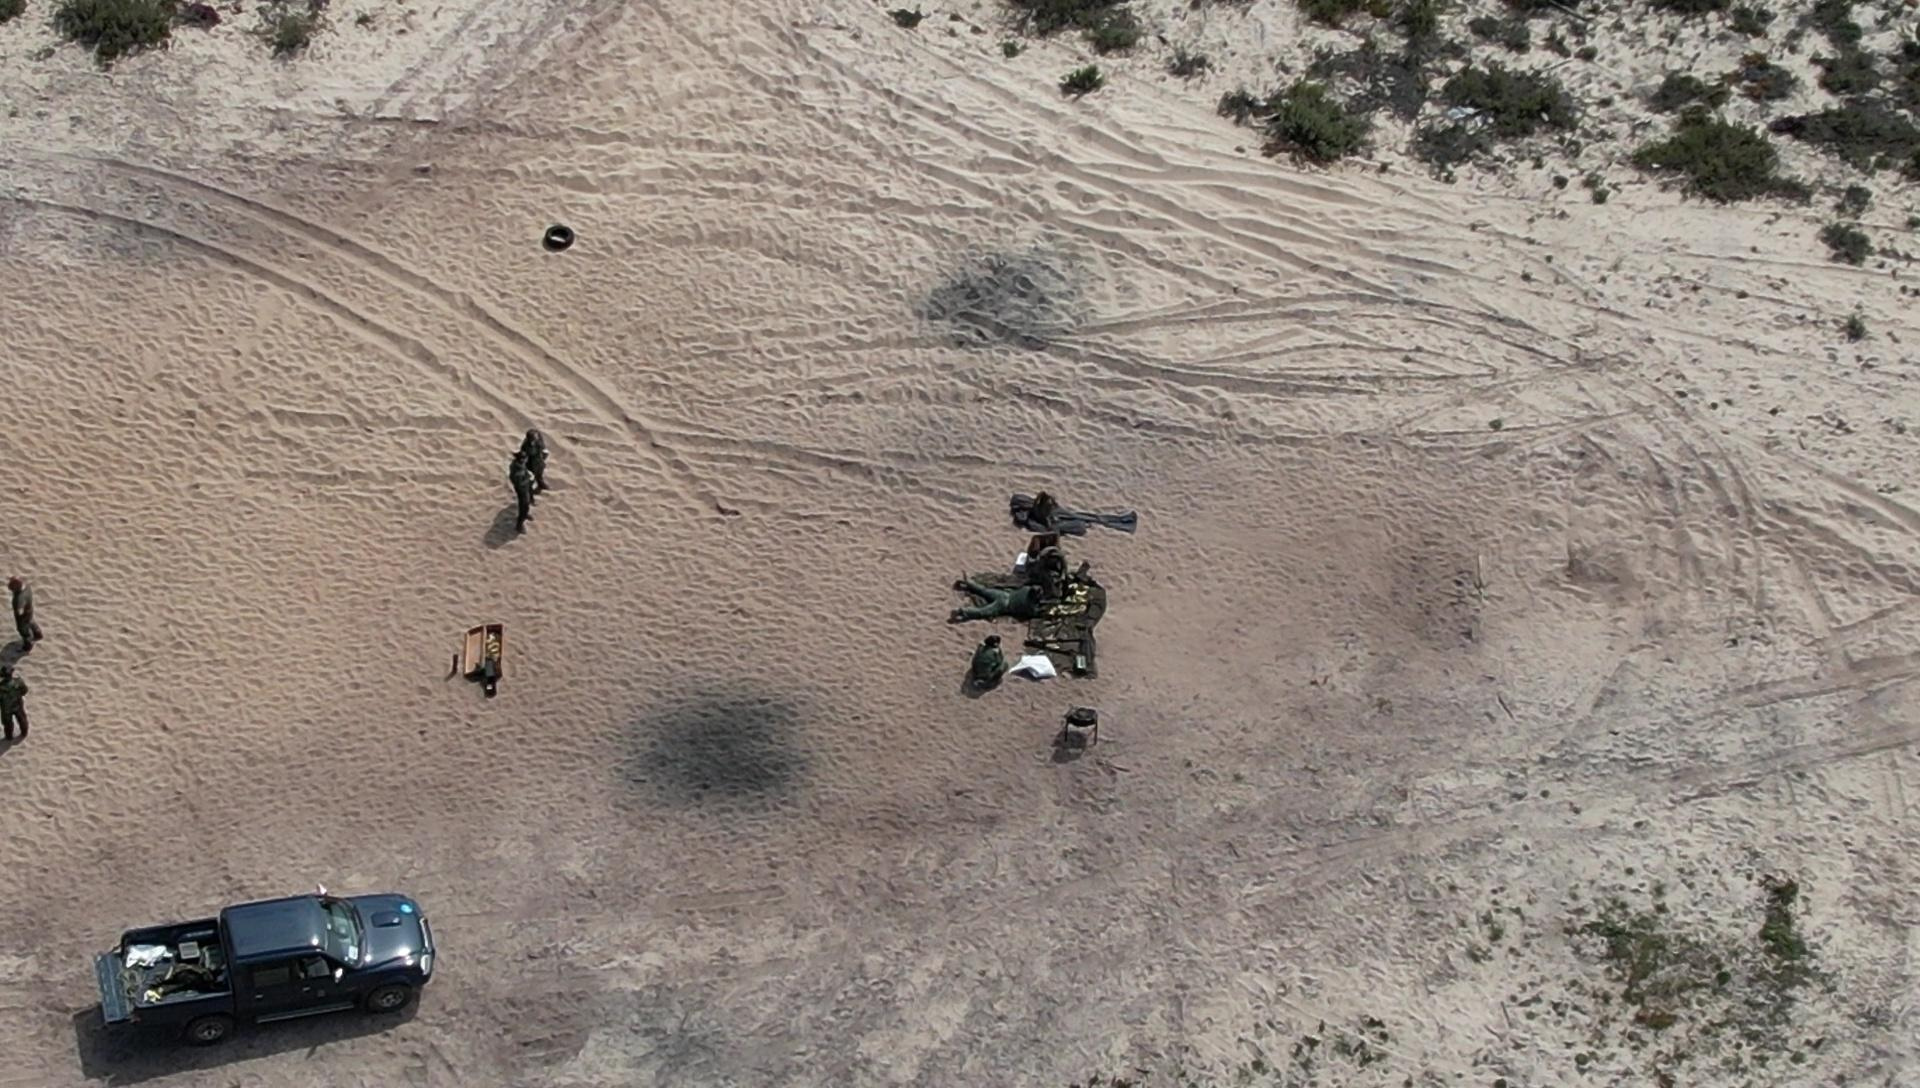Soldier: (957, 562, 1083, 634), (0, 568, 45, 659), (502, 440, 545, 537), (0, 666, 44, 754), (964, 628, 1011, 706), (1014, 542, 1079, 591), (518, 426, 553, 488)
